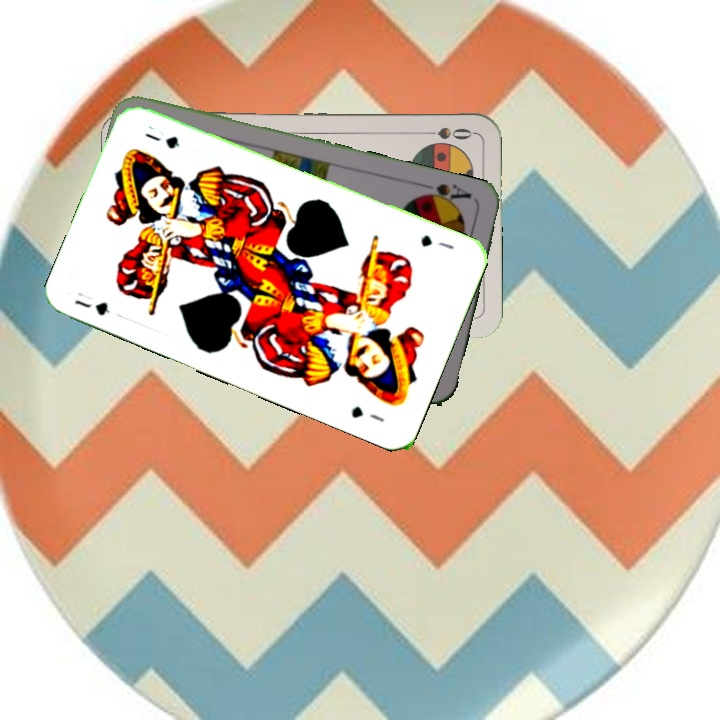GU: (70, 288, 113, 319), (416, 230, 457, 252)
SA: (416, 179, 474, 209)
SO: (416, 124, 475, 142)
